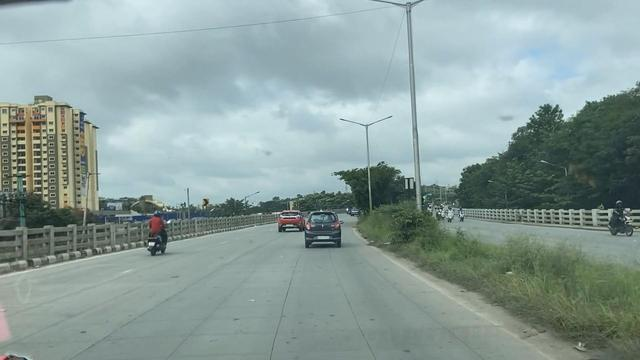LMV: (147, 213, 176, 252), (306, 212, 338, 243), (273, 209, 299, 233)
